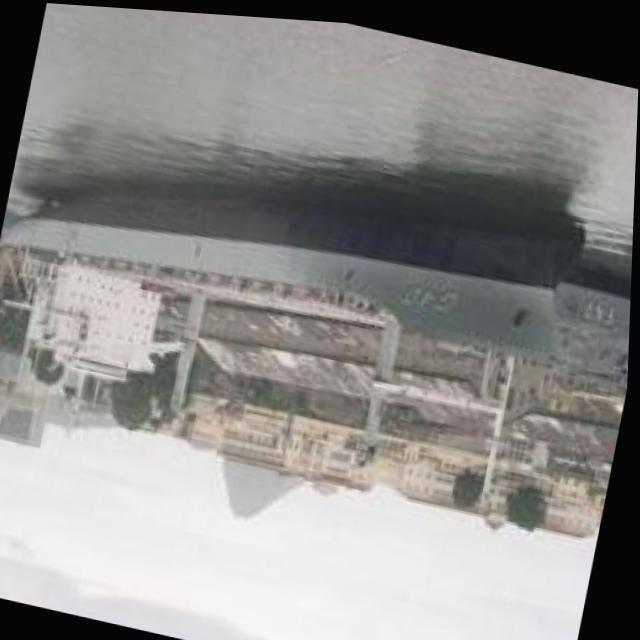ship2: (2, 191, 586, 522)
